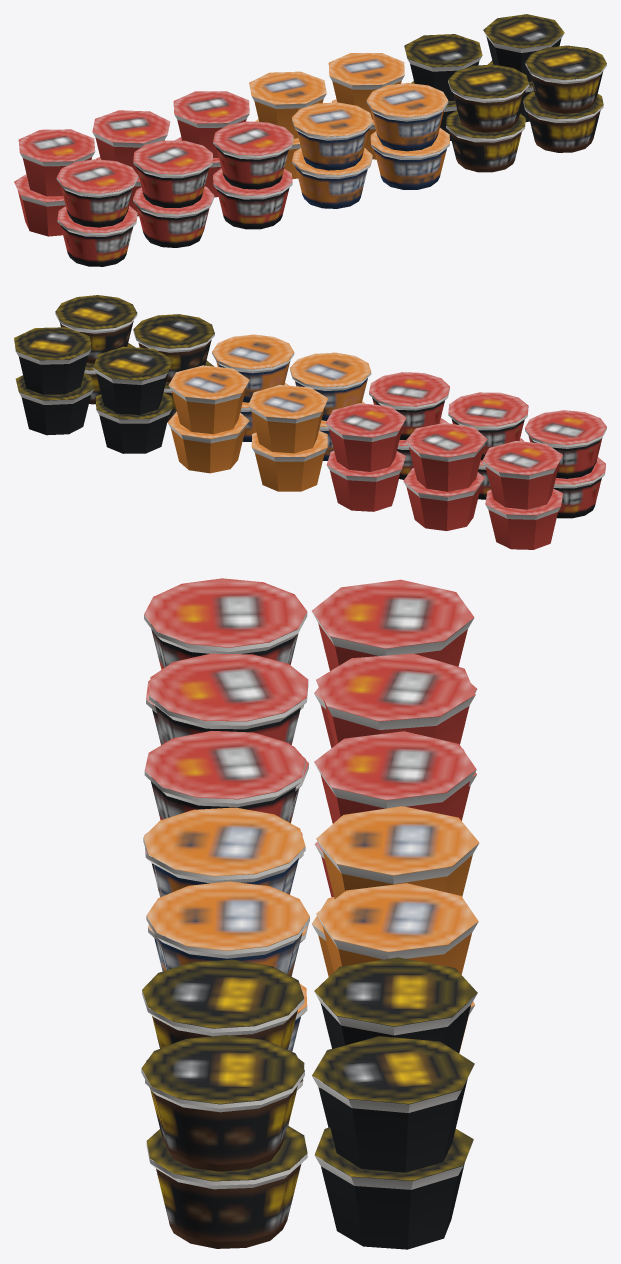
The model's file is SC_Prod_Row_CupRamen.gltf.
3 renders of one model, top to bottom at view 1: azimuth 30°, elevation 25°; view 2: azimuth 150°, elevation 25°; view 3: azimuth 270°, elevation 25°, orthographic. The views are drawn at different scales.
Visible parts, largest first — view 1: SC_Prod_Row_CupRamen; view 2: SC_Prod_Row_CupRamen; view 3: SC_Prod_Row_CupRamen.
Part boxes in pixels (<box>): SC_Prod_Row_CupRamen: <box>14,14,606,266</box>; SC_Prod_Row_CupRamen: <box>14,295,606,549</box>; SC_Prod_Row_CupRamen: <box>141,578,479,1249</box>.
Bounding box in the file's own units: 1.19 × 0.1656 × 0.3222.
2 materials, 2 textured.
